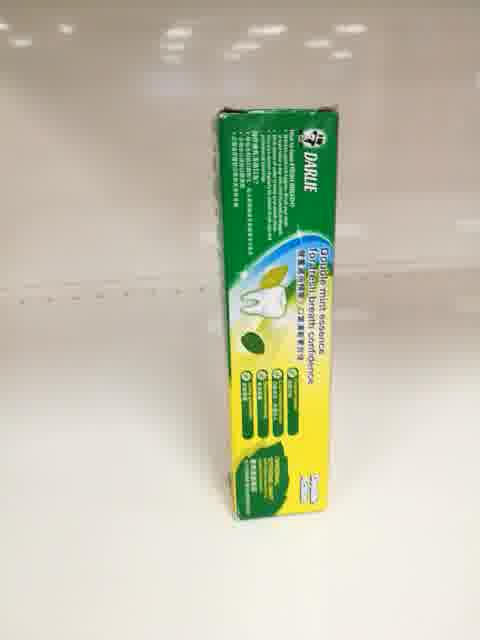toothpaste: (214, 106, 342, 521)
